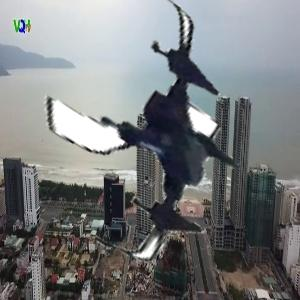drone: (32, 12, 278, 258)
